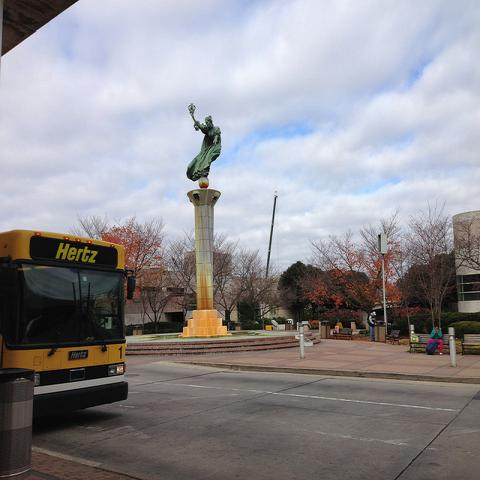bus: (0, 230, 136, 420)
